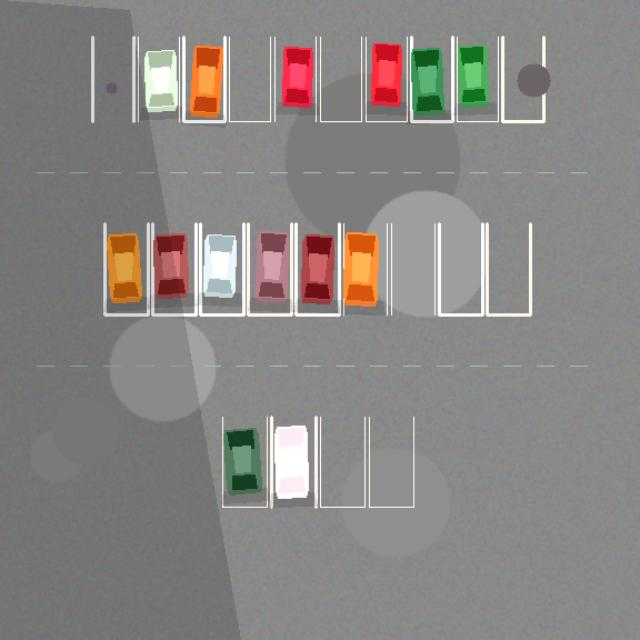space-empty: (320, 417, 364, 507), (369, 417, 413, 507), (391, 223, 434, 314), (439, 223, 482, 314), (487, 223, 530, 314), (92, 37, 133, 121), (229, 37, 270, 121), (320, 37, 361, 121), (502, 37, 543, 121)
space-occupied: (222, 417, 267, 507), (271, 417, 316, 507), (104, 223, 148, 314), (152, 223, 196, 314), (343, 223, 387, 314), (200, 223, 243, 314), (248, 223, 291, 314), (296, 223, 339, 314), (274, 37, 316, 121), (138, 37, 179, 121), (183, 37, 224, 121), (366, 37, 407, 121), (411, 37, 452, 121), (457, 37, 498, 121)
